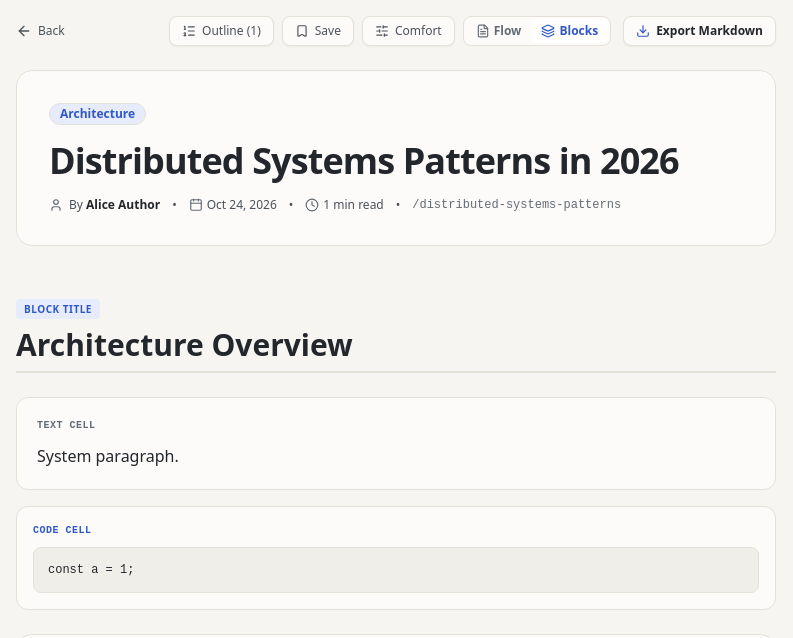
Phase C & E: Knowledge Catalog & Reader View Suite › ReaderView Component › toggles between Flow and Notebook Blocks in ReaderView
Check: the button titled "Notebook Block Cards (.ipynb Mode)" is shown, box [531, 19, 608, 43]
Check: the text "Block Title" is shown, box [16, 299, 100, 319]
Toggle to Flow mode
Click the button titled "Continuous Article Flow" at point(499, 31), box [466, 19, 531, 43]
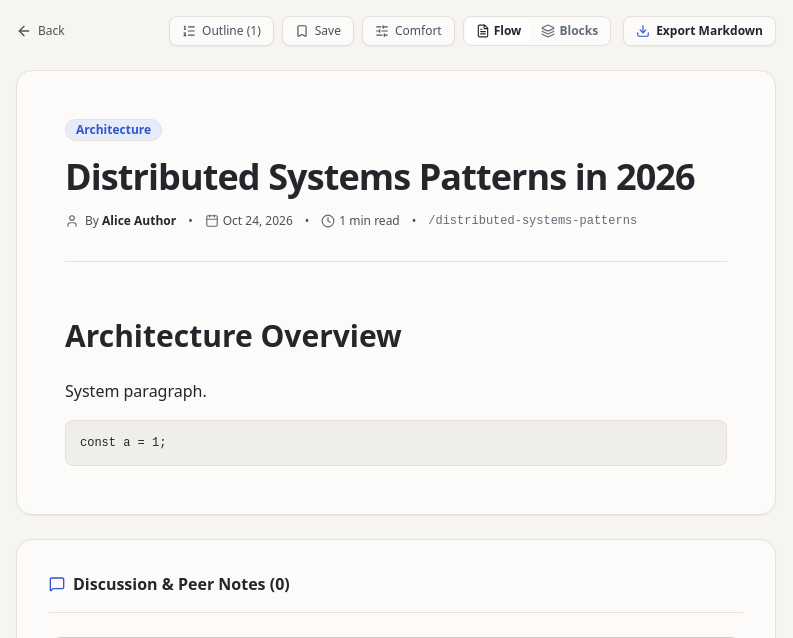
Toggle back to Blocks
Click the button titled "Notebook Block Cards (.ipynb Mode)" at point(570, 31), box [531, 19, 608, 43]
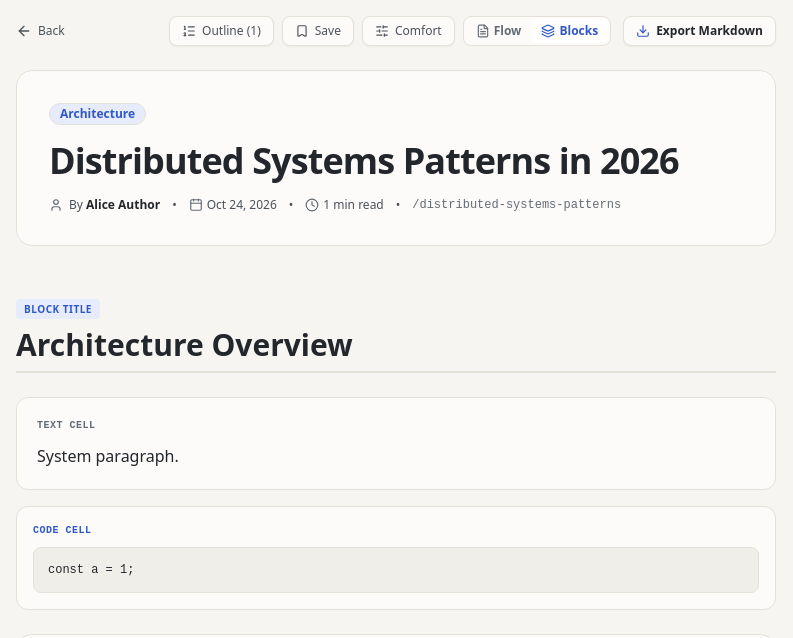
Check: the text "Block Title" is shown, box [16, 299, 100, 319]
